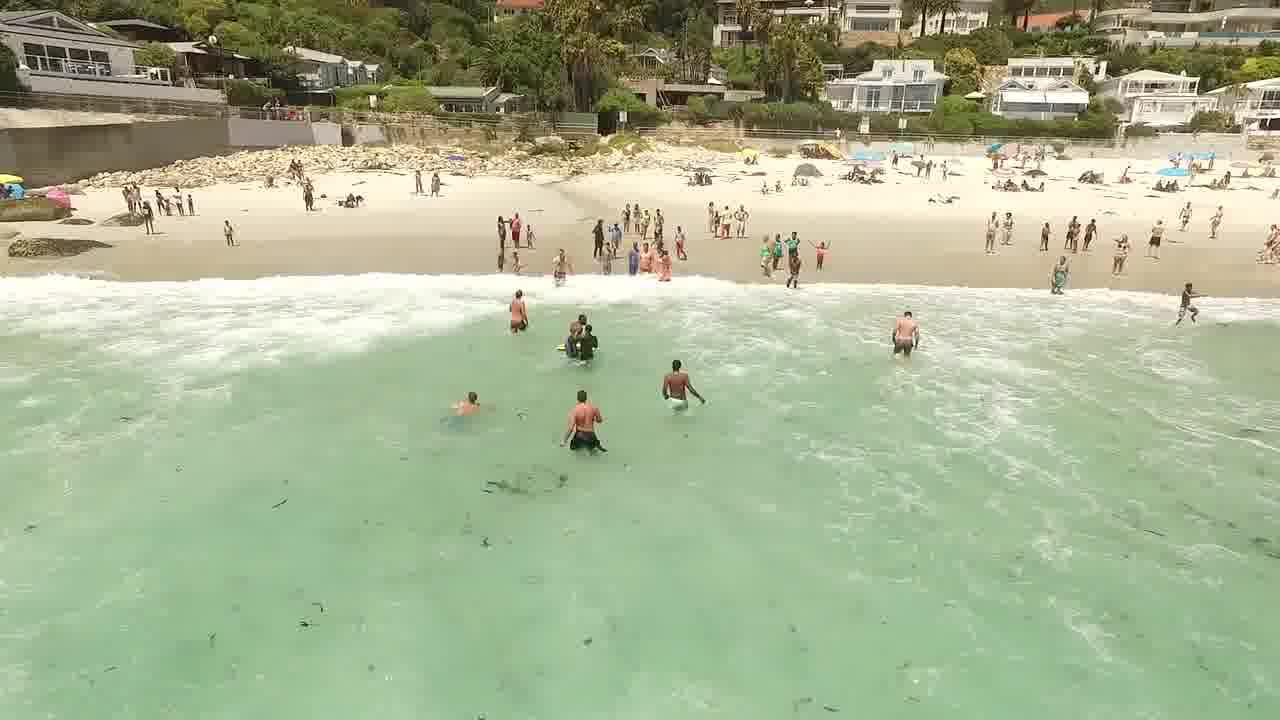swimmer: (876, 293, 932, 366), (563, 382, 611, 466), (651, 350, 720, 408), (499, 279, 535, 338), (1173, 276, 1205, 335), (450, 373, 492, 416), (1050, 249, 1082, 299), (584, 313, 607, 371), (545, 245, 581, 281), (565, 311, 575, 349)
